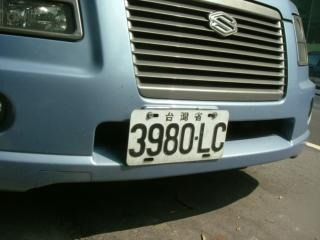plate: (122, 105, 228, 161)
